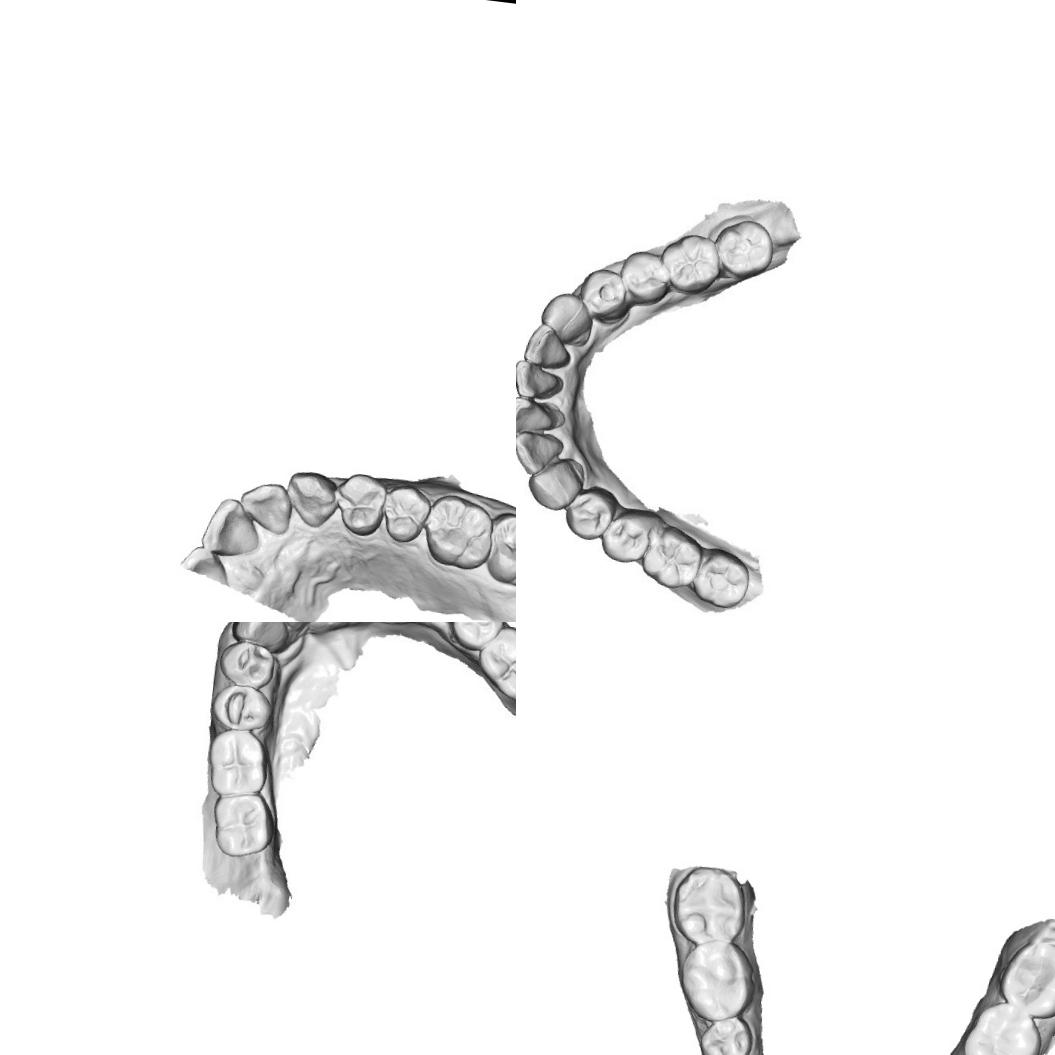canine: (281, 468, 340, 532), (523, 456, 584, 514), (537, 288, 595, 344), (231, 622, 294, 653)
incisor: (198, 494, 265, 558), (235, 477, 296, 537), (520, 321, 574, 370), (177, 543, 237, 586), (516, 393, 562, 443), (516, 429, 562, 478), (516, 356, 559, 403)
molar: (674, 934, 761, 1028), (668, 862, 752, 950), (419, 490, 498, 574), (207, 787, 278, 864), (959, 996, 1048, 1055), (203, 724, 273, 798), (995, 935, 1055, 1021), (637, 522, 705, 592), (656, 229, 726, 295), (712, 216, 778, 282), (688, 547, 754, 612), (471, 622, 516, 706), (481, 508, 516, 591)
premolar: (330, 469, 390, 540), (207, 680, 277, 736), (378, 479, 433, 547), (618, 246, 676, 308), (596, 506, 654, 567), (575, 264, 632, 326), (562, 482, 616, 544), (215, 638, 276, 690), (695, 1012, 756, 1055), (447, 622, 509, 654)
